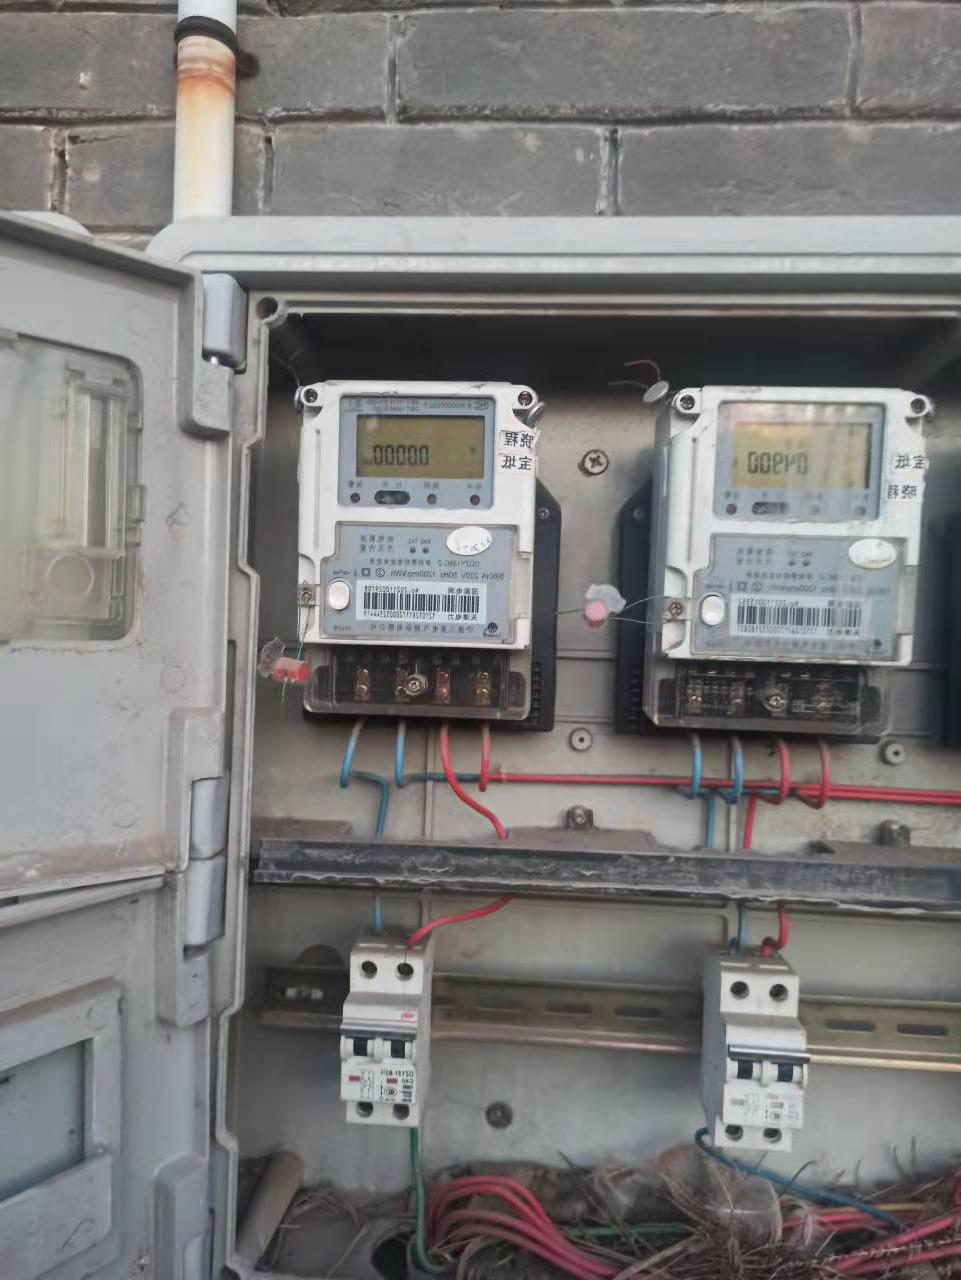digital: (662, 384, 917, 664), (297, 376, 538, 648)
